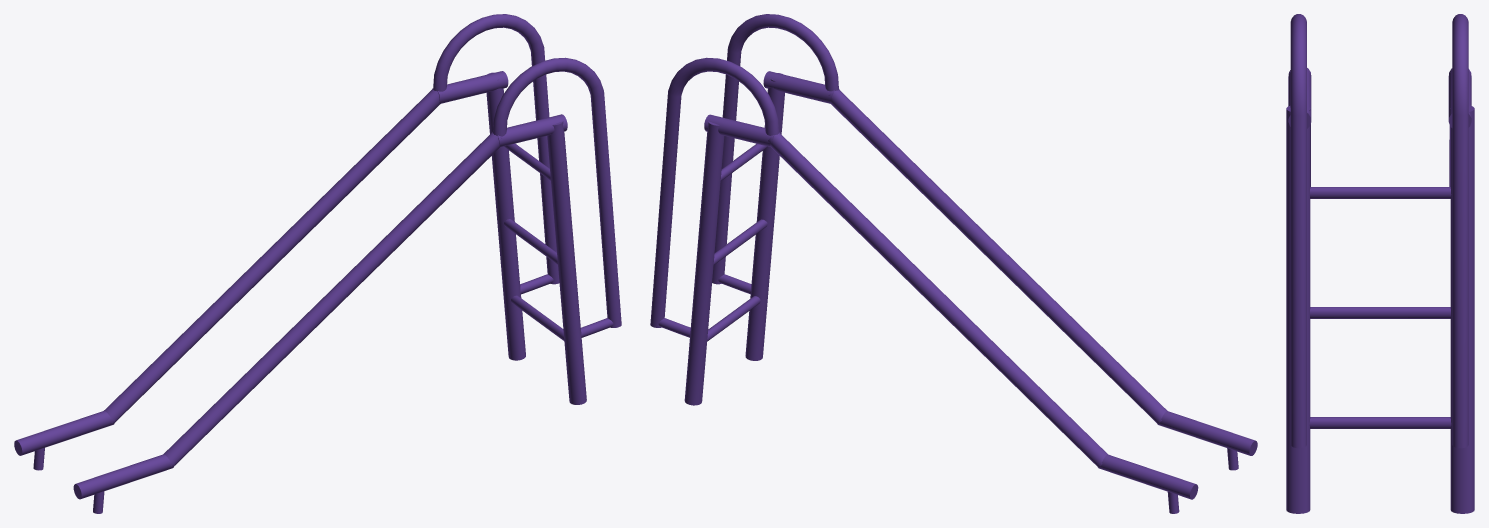
The model's file is columpioA.glb.
The picture shows the model from 3 angles, left to right: view 1: azimuth 30°, elevation 25°; view 2: azimuth 150°, elevation 25°; view 3: azimuth 270°, elevation 25°; orthographic projection. The views are drawn at different scales.
Parts seen in each view (by area): view 1: Object001; view 2: Object001; view 3: Object001.
Part boxes in pixels (bbox=[...]): Object001: bbox=[14, 14, 621, 513]; Object001: bbox=[650, 14, 1257, 513]; Object001: bbox=[1286, 14, 1474, 513].
Size of what is drawn, in the model's own units: 33.73 by 20.65 by 7.5.
